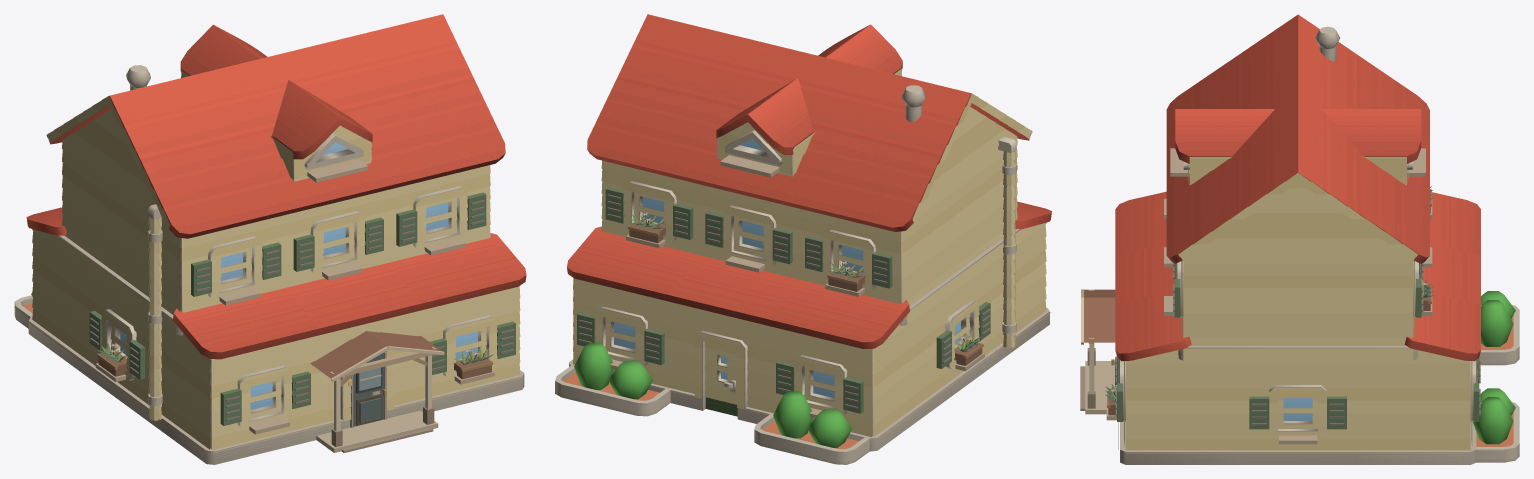
File: house-t-cream.glb
3 views of the same model, side by side, from view 1: azimuth 30°, elevation 25°; view 2: azimuth 150°, elevation 25°; view 3: azimuth 270°, elevation 25° (orthographic). The views are drawn at different scales.
Parts seen in each view (by area): view 1: building-type-t, Handlaid_roof_entry_porch_and_joinery, Details; view 2: building-type-t, Handlaid_roof_entry_porch_and_joinery, Details; view 3: Handlaid_roof_entry_porch_and_joinery, building-type-t, Details.
Part boxes in pixels (x1,y1,x2,y2): building-type-t: [14, 14, 526, 464]; Handlaid_roof_entry_porch_and_joinery: [14, 70, 523, 452]; Details: [89, 192, 515, 425]; building-type-t: [555, 14, 1051, 464]; Handlaid_roof_entry_porch_and_joinery: [573, 68, 1051, 449]; Details: [577, 187, 990, 413]; Handlaid_roof_entry_porch_and_joinery: [1080, 148, 1504, 453]; building-type-t: [1115, 14, 1519, 464]; Details: [1117, 263, 1479, 429].
Size of the model in its own units: 1.34 by 1.16 by 1.53.
Materials: 32 (1 with a texture image).
